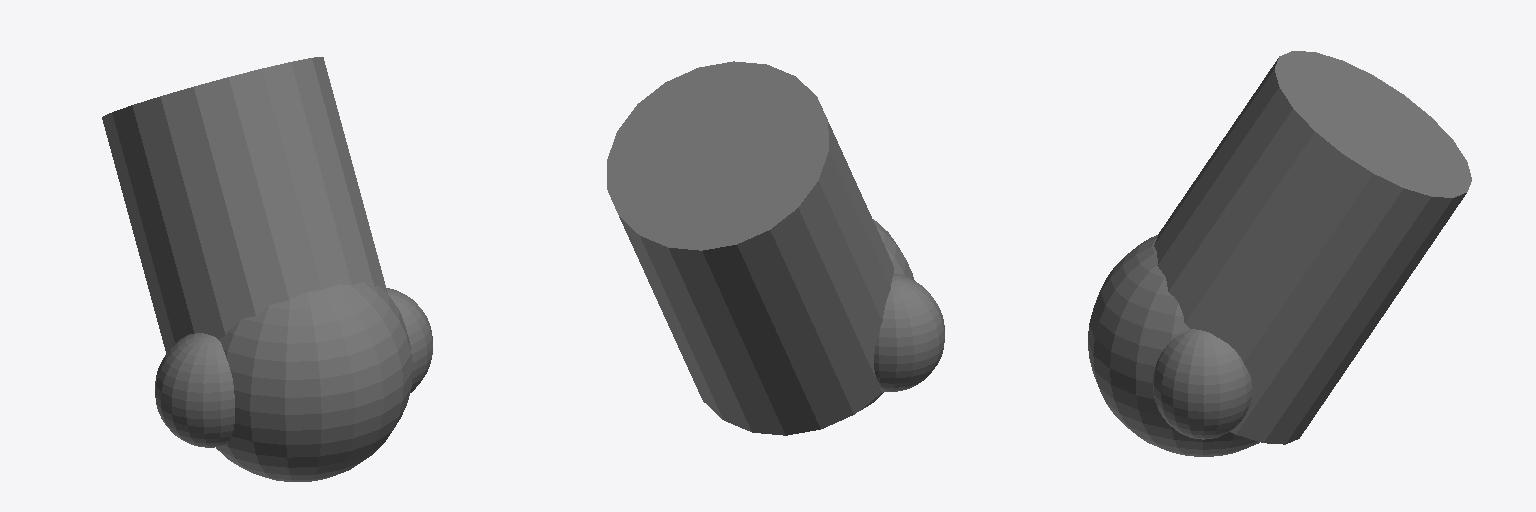
File: nose.obj
3 views of the same model, side by side, from view 1: azimuth 30°, elevation 25°; view 2: azimuth 150°, elevation 25°; view 3: azimuth 270°, elevation 25° (orthographic).
Parts seen in each view (by area): view 1: pCylinder1, pSphere1, pSphere3, pSphere2; view 2: pCylinder1, pSphere3, pSphere1; view 3: pCylinder1, pSphere1, pSphere2.
Part boxes in pixels (left/top/right/bottom): pCylinder1: left=102, top=57, right=387, bottom=353; pSphere1: left=216, top=282, right=412, bottom=481; pSphere3: left=155, top=333, right=234, bottom=447; pSphere2: left=387, top=288, right=432, bottom=392; pCylinder1: left=607, top=61, right=893, bottom=435; pSphere3: left=874, top=274, right=944, bottom=391; pSphere1: left=858, top=219, right=914, bottom=411; pCylinder1: left=1154, top=51, right=1471, bottom=444; pSphere1: left=1088, top=235, right=1259, bottom=456; pSphere2: left=1153, top=329, right=1252, bottom=439.
Bounding box in the file's own units: 2.65 × 3.58 × 3.31.